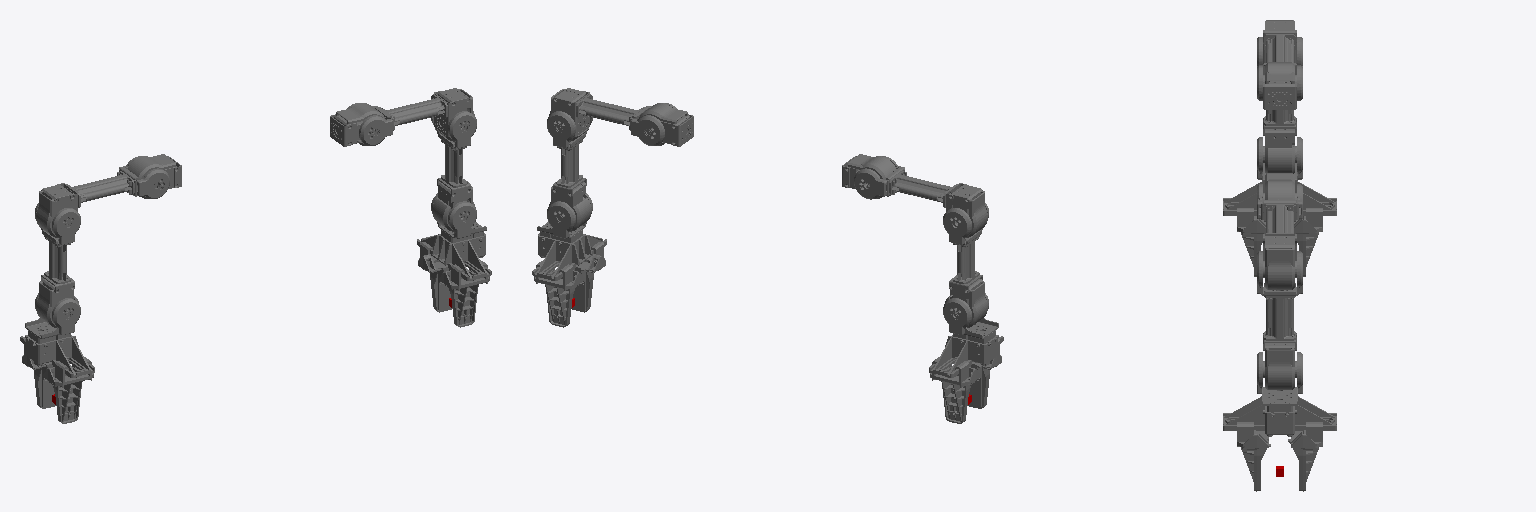
robot.urdf — marvin:
<robot name="marvin" version="1.0">
  <joint name="left_end_effector_joint" type="fixed">
    <origin rpy="-0.00000 0.00000 -0.00000" xyz="0.12600 -0.00000 0.00000"/>
    <parent link="left_link5"/>
    <child link="left_end_effector_link"/>
  </joint>
  <joint name="left_gripper" type="prismatic">
    <limit lower="-0.01000" upper="0.01900" effort="1" velocity="4.80000"/>
    <origin rpy="-0.00000 0.00000 -0.00000" xyz="0.08170 0.02100 0.00000"/>
    <parent link="left_link5"/>
    <child link="left_gripper_link"/>
    <axis xyz="0.00000 1.00000 0.00000"/>
  </joint>
  <joint name="left_gripper_sub" type="prismatic">
    <limit lower="-0.01000" upper="0.01900" effort="1" velocity="4.80000"/>
    <mimic multiplier="1.00000" offset="0.00000" joint="left_gripper"/>
    <origin rpy="-0.00000 0.00000 -0.00000" xyz="0.08170 -0.02100 0.00000"/>
    <parent link="left_link5"/>
    <child link="left_gripper_link_sub"/>
    <axis xyz="0.00000 -1.00000 0.00000"/>
  </joint>
  <joint name="left_joint1" type="revolute">
    <limit lower="-2.82743" upper="2.82743" effort="1" velocity="4.80000"/>
    <origin rpy="3.14159 1.57080 -0.00000" xyz="-0.09700 -0.00000 -0.01200"/>
    <parent link="marvin"/>
    <child link="left_link2"/>
    <axis xyz="0.00000 0.00000 1.00000"/>
  </joint>
  <joint name="left_joint2" type="revolute">
    <limit lower="-1.79071" upper="1.57080" effort="1" velocity="4.80000"/>
    <origin rpy="-0.00000 0.00000 -0.00000" xyz="-0.00000 -0.00000 0.05950"/>
    <parent link="left_link2"/>
    <child link="left_link3"/>
    <axis xyz="0.00000 1.00000 0.00000"/>
  </joint>
  <joint name="left_joint3" type="revolute">
    <limit lower="-0.94248" upper="1.38230" effort="1" velocity="4.80000"/>
    <origin rpy="-0.00000 0.00000 -0.00000" xyz="0.02400 -0.00000 0.12800"/>
    <parent link="left_link3"/>
    <child link="left_link4"/>
    <axis xyz="0.00000 1.00000 0.00000"/>
  </joint>
  <joint name="left_joint4" type="revolute">
    <limit lower="-1.79071" upper="2.04204" effort="1" velocity="4.80000"/>
    <origin rpy="-0.00000 0.00000 -0.00000" xyz="0.12400 -0.00000 0.00000"/>
    <parent link="left_link4"/>
    <child link="left_link5"/>
    <axis xyz="0.00000 1.00000 0.00000"/>
  </joint>
  <joint name="marvin_to_body" type="fixed">
    <origin rpy="0.00000 0.00000 0.00000" xyz="0.00000 0.00000 0.00000"/>
    <parent link="body"/>
    <child link="marvin"/>
  </joint>
  <joint name="right_end_effector_joint" type="fixed">
    <origin rpy="-0.00000 0.00000 0.00000" xyz="0.12600 0.00000 -0.00000"/>
    <parent link="right_link5"/>
    <child link="right_end_effector_link"/>
  </joint>
  <joint name="right_gripper" type="prismatic">
    <limit lower="-0.01000" upper="0.01900" effort="1" velocity="4.80000"/>
    <origin rpy="-0.00000 0.00000 0.00000" xyz="0.08170 0.02100 -0.00000"/>
    <parent link="right_link5"/>
    <child link="right_gripper_link"/>
    <axis xyz="0.00000 1.00000 0.00000"/>
  </joint>
  <joint name="right_gripper_sub" type="prismatic">
    <limit lower="-0.01000" upper="0.01900" effort="1" velocity="4.80000"/>
    <mimic multiplier="1.00000" offset="0.00000" joint="right_gripper"/>
    <origin rpy="-0.00000 0.00000 0.00000" xyz="0.08170 -0.02100 -0.00000"/>
    <parent link="right_link5"/>
    <child link="right_gripper_link_sub"/>
    <axis xyz="0.00000 -1.00000 0.00000"/>
  </joint>
  <joint name="right_joint1" type="revolute">
    <limit lower="-2.82743" upper="2.82743" effort="1" velocity="4.80000"/>
    <origin rpy="-0.00000 1.57080 -0.00000" xyz="0.09700 -0.00000 -0.01200"/>
    <parent link="marvin"/>
    <child link="right_link2"/>
    <axis xyz="0.00000 0.00000 1.00000"/>
  </joint>
  <joint name="right_joint2" type="revolute">
    <limit lower="-1.79071" upper="1.57080" effort="1" velocity="4.80000"/>
    <origin rpy="-0.00000 0.00000 0.00000" xyz="0.00000 0.00000 0.05950"/>
    <parent link="right_link2"/>
    <child link="right_link3"/>
    <axis xyz="0.00000 1.00000 0.00000"/>
  </joint>
  <joint name="right_joint3" type="revolute">
    <limit lower="-0.94248" upper="1.38230" effort="1" velocity="4.80000"/>
    <origin rpy="-0.00000 0.00000 0.00000" xyz="0.02400 0.00000 0.12800"/>
    <parent link="right_link3"/>
    <child link="right_link4"/>
    <axis xyz="0.00000 1.00000 0.00000"/>
  </joint>
  <joint name="right_joint4" type="revolute">
    <limit lower="-1.79071" upper="2.04204" effort="1" velocity="4.80000"/>
    <origin rpy="-0.00000 0.00000 0.00000" xyz="0.12400 0.00000 -0.00000"/>
    <parent link="right_link4"/>
    <child link="right_link5"/>
    <axis xyz="0.00000 1.00000 0.00000"/>
  </joint>
  <link name="body">
    <collision name="Cube">
      <origin rpy="0.00000 0.00000 0.00000" xyz="0.00000 0.00000 -0.22261"/>
      <geometry>
        <box size="0.16000 0.06000 0.60000"/>
      </geometry>
    </collision>
  </link>
  <link name="left_end_effector_link">
    <inertial>
      <inertia ixx="0.00100" ixy="0.00000" ixz="0.00000" iyy="0.00100" iyz="0.00000" izz="0.00100"/>
      <origin rpy="0.00000 0.00000 0.00000" xyz="0.00000 0.00000 0.00000"/>
      <mass value="0.00100"/>
    </inertial>
    <visual name="left_end_effector_link_visual">
      <origin rpy="-0.00000 0.00000 -0.00000" xyz="0.00000 -0.00000 0.00000"/>
      <material name="red"/>
      <geometry>
        <box size="0.01000 0.01000 0.01000"/>
      </geometry>
    </visual>
  </link>
  <link name="left_gripper_link">
    <collision name="left_gripper_link_collision">
      <origin rpy="-0.00000 -0.00000 -0.00000" xyz="0.00000 0.00000 -0.00000"/>
      <geometry>
        <mesh filename="../meshes/stl/chain_link_grip_l.stl" scale="0.00100 0.00100 0.00100"/>
      </geometry>
    </collision>
    <inertial>
      <inertia ixx="0.00100" ixy="0.00000" ixz="0.00000" iyy="0.00100" iyz="0.00000" izz="0.00100"/>
      <origin rpy="0.00000 0.00000 0.00000" xyz="0.00000 0.00000 0.00000"/>
      <mass value="0.00100"/>
    </inertial>
    <visual name="left_gripper_link_visual">
      <origin rpy="-0.00000 -0.00000 -0.00000" xyz="0.00000 0.00000 -0.00000"/>
      <material name="grey"/>
      <geometry>
        <mesh filename="../meshes/stl/chain_link_grip_l.stl" scale="0.00100 0.00100 0.00100"/>
      </geometry>
    </visual>
  </link>
  <link name="left_gripper_link_sub">
    <collision name="left_gripper_link_sub_collision">
      <origin rpy="-0.00000 -0.00000 -0.00000" xyz="-0.00000 0.00000 -0.00000"/>
      <geometry>
        <mesh filename="../meshes/stl/chain_link_grip_r.stl" scale="0.00100 0.00100 0.00100"/>
      </geometry>
    </collision>
    <inertial>
      <inertia ixx="0.00100" ixy="0.00000" ixz="0.00000" iyy="0.00100" iyz="0.00000" izz="0.00100"/>
      <origin rpy="0.00000 0.00000 0.00000" xyz="0.00000 0.00000 0.00000"/>
      <mass value="0.00100"/>
    </inertial>
    <visual name="left_gripper_link_sub_visual">
      <origin rpy="-0.00000 -0.00000 -0.00000" xyz="-0.00000 0.00000 -0.00000"/>
      <material name="grey"/>
      <geometry>
        <mesh filename="../meshes/stl/chain_link_grip_r.stl" scale="0.00100 0.00100 0.00100"/>
      </geometry>
    </visual>
  </link>
  <link name="left_link2">
    <collision name="left_link2_collision">
      <origin rpy="-0.00000 -0.00000 -0.00000" xyz="-0.00000 -0.00000 0.01900"/>
      <geometry>
        <mesh filename="../meshes/stl/chain_link2.stl" scale="0.00100 0.00100 0.00100"/>
      </geometry>
    </collision>
    <inertial>
      <inertia ixx="0.00003" ixy="-0.00000" ixz="-0.00000" iyy="0.00003" iyz="0.00000" izz="0.00002"/>
      <origin rpy="0.00000 0.00000 0.00000" xyz="-0.00030 0.00054 0.04743"/>
      <mass value="0.09841"/>
    </inertial>
    <visual name="left_link2_visual">
      <origin rpy="-0.00000 -0.00000 -0.00000" xyz="-0.00000 -0.00000 0.01900"/>
      <material name="grey"/>
      <geometry>
        <mesh filename="../meshes/stl/chain_link2.stl" scale="0.00100 0.00100 0.00100"/>
      </geometry>
    </visual>
  </link>
  <link name="left_link3">
    <collision name="left_link3_collision">
      <origin rpy="-0.00000 -0.00000 -0.00000" xyz="-0.00000 -0.00000 0.00000"/>
      <geometry>
        <mesh filename="../meshes/stl/chain_link3.stl" scale="0.00100 0.00100 0.00100"/>
      </geometry>
    </collision>
    <inertial>
      <inertia ixx="0.00033" ixy="-0.00000" ixz="-0.00004" iyy="0.00034" iyz="-0.00000" izz="0.00006"/>
      <origin rpy="0.00000 0.00000 0.00000" xyz="0.01031 0.00038 0.10170"/>
      <mass value="0.13851"/>
    </inertial>
    <visual name="left_link3_visual">
      <origin rpy="-0.00000 -0.00000 -0.00000" xyz="-0.00000 -0.00000 0.00000"/>
      <material name="grey"/>
      <geometry>
        <mesh filename="../meshes/stl/chain_link3.stl" scale="0.00100 0.00100 0.00100"/>
      </geometry>
    </visual>
  </link>
  <link name="left_link4">
    <collision name="left_link4_collision">
      <origin rpy="-0.00000 -0.00000 -0.00000" xyz="0.00000 -0.00000 0.00000"/>
      <geometry>
        <mesh filename="../meshes/stl/chain_link4.stl" scale="0.00100 0.00100 0.00100"/>
      </geometry>
    </collision>
    <inertial>
      <inertia ixx="0.00003" ixy="-0.00000" ixz="-0.00000" iyy="0.00024" iyz="0.00000" izz="0.00025"/>
      <origin rpy="0.00000 0.00000 0.00000" xyz="0.09091 0.00039 0.00022"/>
      <mass value="0.13275"/>
    </inertial>
    <visual name="left_link4_visual">
      <origin rpy="-0.00000 -0.00000 -0.00000" xyz="0.00000 -0.00000 0.00000"/>
      <material name="grey"/>
      <geometry>
        <mesh filename="../meshes/stl/chain_link4.stl" scale="0.00100 0.00100 0.00100"/>
      </geometry>
    </visual>
  </link>
  <link name="left_link5">
    <collision name="left_link5_collision">
      <origin rpy="-0.00000 -0.00000 -0.00000" xyz="-0.00000 -0.00000 0.00000"/>
      <geometry>
        <mesh filename="../meshes/stl/chain_link5.stl" scale="0.00100 0.00100 0.00100"/>
      </geometry>
    </collision>
    <inertial>
      <inertia ixx="0.00008" ixy="0.00000" ixz="-0.00000" iyy="0.00008" iyz="0.00000" izz="0.00009"/>
      <origin rpy="0.00000 0.00000 0.00000" xyz="0.04421 0.00000 0.00891"/>
      <mass value="0.14328"/>
    </inertial>
    <visual name="left_link5_visual">
      <origin rpy="-0.00000 -0.00000 -0.00000" xyz="-0.00000 -0.00000 0.00000"/>
      <material name="grey"/>
      <geometry>
        <mesh filename="../meshes/stl/chain_link5.stl" scale="0.00100 0.00100 0.00100"/>
      </geometry>
    </visual>
  </link>
  <link name="marvin">
    <collision name="left_base_link_collision">
      <origin rpy="3.14159 1.57080 -0.00000" xyz="-0.08000 0.00000 0.00000"/>
      <geometry>
        <mesh filename="../meshes/stl/chain_link1.stl" scale="0.00100 0.00100 0.00100"/>
      </geometry>
    </collision>
    <collision name="right_base_link_collision">
      <origin rpy="-0.00000 1.57080 -0.00000" xyz="0.08000 -0.00000 0.00000"/>
      <geometry>
        <mesh filename="../meshes/stl/chain_link1.stl" scale="0.00100 0.00100 0.00100"/>
      </geometry>
    </collision>
    <inertial>
      <inertia ixx="0.00003" ixy="0.00000" ixz="-0.00000" iyy="0.00004" iyz="0.00000" izz="0.00004"/>
      <origin rpy="0.00000 0.00000 0.00000" xyz="0.00000 -0.00000 -0.00031"/>
      <mass value="0.15824"/>
    </inertial>
    <visual name="left_base_link_visual">
      <origin rpy="3.14159 1.57080 -0.00000" xyz="-0.08000 0.00000 0.00000"/>
      <material name="grey"/>
      <geometry>
        <mesh filename="../meshes/stl/chain_link1.stl" scale="0.00100 0.00100 0.00100"/>
      </geometry>
    </visual>
    <visual name="right_base_link_visual">
      <origin rpy="-0.00000 1.57080 -0.00000" xyz="0.08000 -0.00000 0.00000"/>
      <material name="grey"/>
      <geometry>
        <mesh filename="../meshes/stl/chain_link1.stl" scale="0.00100 0.00100 0.00100"/>
      </geometry>
    </visual>
  </link>
  <link name="right_end_effector_link">
    <inertial>
      <inertia ixx="0.00100" ixy="0.00000" ixz="0.00000" iyy="0.00100" iyz="0.00000" izz="0.00100"/>
      <origin rpy="0.00000 0.00000 0.00000" xyz="-0.00000 0.00000 0.00000"/>
      <mass value="0.00100"/>
    </inertial>
    <visual name="right_end_effector_link_visual">
      <origin rpy="-0.00000 0.00000 0.00000" xyz="0.00000 -0.00000 0.00000"/>
      <material name="red"/>
      <geometry>
        <box size="0.01000 0.01000 0.01000"/>
      </geometry>
    </visual>
  </link>
  <link name="right_gripper_link">
    <collision name="right_gripper_link_collision">
      <origin rpy="-0.00000 0.00000 0.00000" xyz="0.00000 0.00000 0.00000"/>
      <geometry>
        <mesh filename="../meshes/stl/chain_link_grip_l.stl" scale="0.00100 0.00100 0.00100"/>
      </geometry>
    </collision>
    <inertial>
      <inertia ixx="0.00100" ixy="0.00000" ixz="0.00000" iyy="0.00100" iyz="0.00000" izz="0.00100"/>
      <origin rpy="0.00000 0.00000 0.00000" xyz="-0.00000 0.00000 0.00000"/>
      <mass value="0.00100"/>
    </inertial>
    <visual name="right_gripper_link_visual">
      <origin rpy="-0.00000 0.00000 0.00000" xyz="0.00000 0.00000 0.00000"/>
      <material name="grey"/>
      <geometry>
        <mesh filename="../meshes/stl/chain_link_grip_l.stl" scale="0.00100 0.00100 0.00100"/>
      </geometry>
    </visual>
  </link>
  <link name="right_gripper_link_sub">
    <collision name="right_gripper_link_sub_collision">
      <origin rpy="-0.00000 0.00000 0.00000" xyz="0.00000 -0.00000 0.00000"/>
      <geometry>
        <mesh filename="../meshes/stl/chain_link_grip_r.stl" scale="0.00100 0.00100 0.00100"/>
      </geometry>
    </collision>
    <inertial>
      <inertia ixx="0.00100" ixy="0.00000" ixz="0.00000" iyy="0.00100" iyz="0.00000" izz="0.00100"/>
      <origin rpy="0.00000 0.00000 0.00000" xyz="-0.00000 0.00000 0.00000"/>
      <mass value="0.00100"/>
    </inertial>
    <visual name="right_gripper_link_sub_visual">
      <origin rpy="-0.00000 0.00000 0.00000" xyz="0.00000 -0.00000 0.00000"/>
      <material name="grey"/>
      <geometry>
        <mesh filename="../meshes/stl/chain_link_grip_r.stl" scale="0.00100 0.00100 0.00100"/>
      </geometry>
    </visual>
  </link>
  <link name="right_link2">
    <collision name="right_link2_collision">
      <origin rpy="-0.00000 0.00000 0.00000" xyz="0.00000 -0.00000 0.01900"/>
      <geometry>
        <mesh filename="../meshes/stl/chain_link2.stl" scale="0.00100 0.00100 0.00100"/>
      </geometry>
    </collision>
    <inertial>
      <inertia ixx="0.00003" ixy="-0.00000" ixz="-0.00000" iyy="0.00003" iyz="0.00000" izz="0.00002"/>
      <origin rpy="0.00000 0.00000 0.00000" xyz="-0.00030 0.00054 0.04743"/>
      <mass value="0.09841"/>
    </inertial>
    <visual name="right_link2_visual">
      <origin rpy="-0.00000 0.00000 0.00000" xyz="0.00000 -0.00000 0.01900"/>
      <material name="grey"/>
      <geometry>
        <mesh filename="../meshes/stl/chain_link2.stl" scale="0.00100 0.00100 0.00100"/>
      </geometry>
    </visual>
  </link>
  <link name="right_link3">
    <collision name="right_link3_collision">
      <origin rpy="-0.00000 0.00000 0.00000" xyz="0.00000 0.00000 0.00000"/>
      <geometry>
        <mesh filename="../meshes/stl/chain_link3.stl" scale="0.00100 0.00100 0.00100"/>
      </geometry>
    </collision>
    <inertial>
      <inertia ixx="0.00033" ixy="-0.00000" ixz="-0.00004" iyy="0.00034" iyz="-0.00000" izz="0.00006"/>
      <origin rpy="0.00000 0.00000 0.00000" xyz="0.01031 0.00038 0.10170"/>
      <mass value="0.13851"/>
    </inertial>
    <visual name="right_link3_visual">
      <origin rpy="-0.00000 0.00000 0.00000" xyz="0.00000 0.00000 0.00000"/>
      <material name="grey"/>
      <geometry>
        <mesh filename="../meshes/stl/chain_link3.stl" scale="0.00100 0.00100 0.00100"/>
      </geometry>
    </visual>
  </link>
  <link name="right_link4">
    <collision name="right_link4_collision">
      <origin rpy="-0.00000 0.00000 0.00000" xyz="-0.00000 0.00000 0.00000"/>
      <geometry>
        <mesh filename="../meshes/stl/chain_link4.stl" scale="0.00100 0.00100 0.00100"/>
      </geometry>
    </collision>
    <inertial>
      <inertia ixx="0.00003" ixy="-0.00000" ixz="-0.00000" iyy="0.00024" iyz="0.00000" izz="0.00025"/>
      <origin rpy="0.00000 0.00000 0.00000" xyz="0.09091 0.00039 0.00022"/>
      <mass value="0.13275"/>
    </inertial>
    <visual name="right_link4_visual">
      <origin rpy="-0.00000 0.00000 0.00000" xyz="-0.00000 0.00000 0.00000"/>
      <material name="grey"/>
      <geometry>
        <mesh filename="../meshes/stl/chain_link4.stl" scale="0.00100 0.00100 0.00100"/>
      </geometry>
    </visual>
  </link>
  <link name="right_link5">
    <collision name="right_link5_collision">
      <origin rpy="-0.00000 0.00000 0.00000" xyz="0.00000 0.00000 0.00000"/>
      <geometry>
        <mesh filename="../meshes/stl/chain_link5.stl" scale="0.00100 0.00100 0.00100"/>
      </geometry>
    </collision>
    <inertial>
      <inertia ixx="0.00008" ixy="0.00000" ixz="-0.00000" iyy="0.00008" iyz="0.00000" izz="0.00009"/>
      <origin rpy="0.00000 0.00000 0.00000" xyz="0.04421 0.00000 0.00891"/>
      <mass value="0.14328"/>
    </inertial>
    <visual name="right_link5_visual">
      <origin rpy="-0.00000 0.00000 0.00000" xyz="0.00000 0.00000 0.00000"/>
      <material name="grey"/>
      <geometry>
        <mesh filename="../meshes/stl/chain_link5.stl" scale="0.00100 0.00100 0.00100"/>
      </geometry>
    </visual>
  </link>
  <material name="grey">
    <color rgba="0.49804 0.49804 0.49804 1.00000"/>
  </material>
  <material name="red">
    <color rgba="0.80000 0.00000 0.00000 1.00000"/>
  </material>
</robot>

--- What the picture shows (computed from the rendered views, not written in the file) ---
Views: 3 orthographic renders of the robot side by side, from view 1: azimuth 30°, elevation 25°; view 2: azimuth 150°, elevation 25°; view 3: azimuth 270°, elevation 25°.
Model marvin with 16 links and 15 joints (8 revolute, 4 prismatic, 3 fixed), rooted at body, posed all joints at 0.
Links seen in each view (by area): view 1: left_link3, left_link5, right_link5, right_link3, left_link4, right_link4, right_gripper_link_sub, left_gripper_link, right_link2, right_gripper_link, left_link2, left_gripper_link_sub; view 2: left_link3, left_link5, right_link5, right_link3, left_link4, right_link4, right_gripper_link, left_gripper_link_sub, right_link2, right_gripper_link_sub, left_link2, left_gripper_link; view 3: right_link5, right_link4, right_link3, left_link4, left_link5, left_link3, left_link2, right_gripper_link, right_gripper_link_sub, left_gripper_link, left_gripper_link_sub, right_link2.
Link boxes in pixels (left/top/right/bottom): left_link3: left=36, top=156, right=169, bottom=237; left_link5: left=20, top=293, right=94, bottom=377; right_link5: left=417, top=193, right=491, bottom=280; right_link3: left=347, top=88, right=474, bottom=145; left_link4: left=35, top=203, right=80, bottom=327; right_link4: left=431, top=111, right=476, bottom=231; right_gripper_link_sub: left=439, top=260, right=489, bottom=327; left_gripper_link: left=43, top=357, right=93, bottom=423; right_link2: left=330, top=103, right=385, bottom=146; right_gripper_link: left=418, top=242, right=452, bottom=312; left_link2: left=128, top=154, right=181, bottom=198; left_gripper_link_sub: left=22, top=339, right=55, bottom=408; left_link3: left=854, top=156, right=987, bottom=237; left_link5: left=929, top=293, right=1003, bottom=377; right_link5: left=532, top=193, right=606, bottom=280; right_link3: left=549, top=88, right=676, bottom=145; left_link4: left=943, top=203, right=988, bottom=327; right_link4: left=547, top=111, right=592, bottom=231; right_gripper_link: left=534, top=260, right=584, bottom=327; left_gripper_link_sub: left=930, top=357, right=980, bottom=423; right_link2: left=638, top=103, right=693, bottom=146; right_gripper_link_sub: left=571, top=242, right=605, bottom=312; left_link2: left=842, top=154, right=895, bottom=198; left_gripper_link: left=968, top=339, right=1001, bottom=408; right_link5: left=1223, top=352, right=1336, bottom=436; right_link4: left=1257, top=251, right=1302, bottom=389; right_link3: left=1257, top=184, right=1302, bottom=289; left_link4: left=1257, top=37, right=1302, bottom=173; left_link5: left=1223, top=137, right=1336, bottom=215; left_link3: left=1257, top=20, right=1302, bottom=100; left_link2: left=1263, top=62, right=1296, bottom=109; right_gripper_link: left=1288, top=422, right=1322, bottom=491; right_gripper_link_sub: left=1237, top=422, right=1270, bottom=491; left_gripper_link: left=1237, top=208, right=1265, bottom=276; left_gripper_link_sub: left=1294, top=208, right=1322, bottom=276; right_link2: left=1263, top=173, right=1296, bottom=207.
Size in the robot's own frame: 0.6485 by 0.1286 by 0.3182 metres.
Meshes: 7 distinct files referenced, 12 mesh visuals loaded (6 binary STL); not drawn: 2 (reference not matched to a file when rendering).
